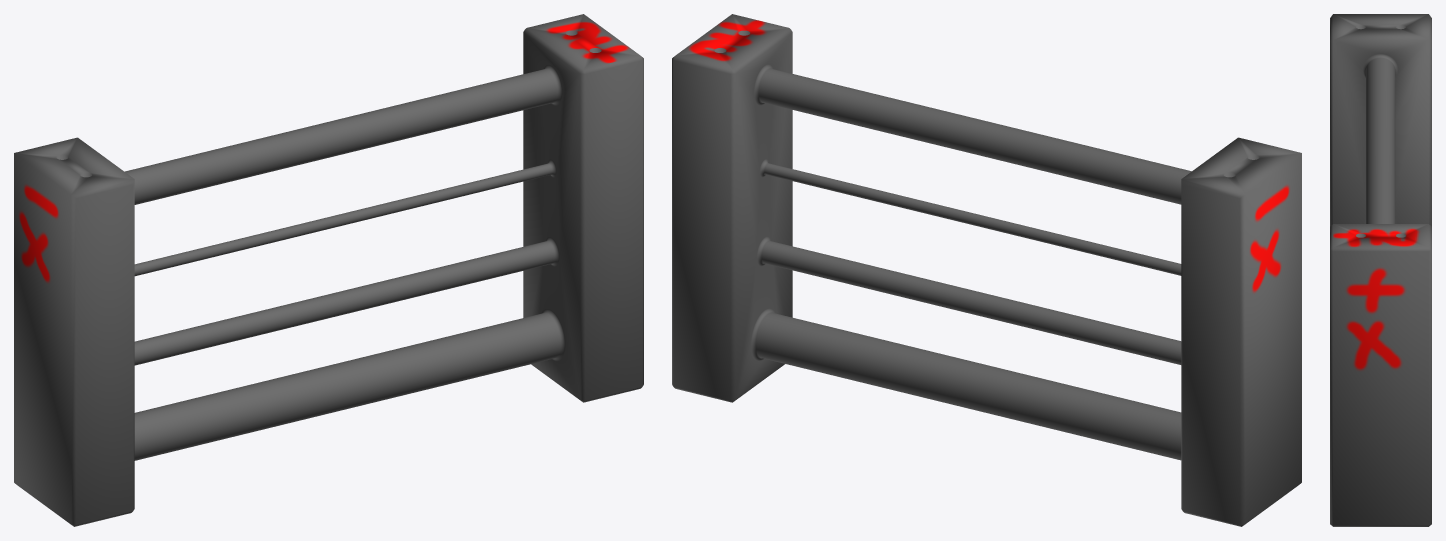
Rendered from Dummy4.fbx.
3 renders of one model, left to right at view 1: azimuth 30°, elevation 25°; view 2: azimuth 150°, elevation 25°; view 3: azimuth 270°, elevation 25°, orthographic. The views are drawn at different scales.
Visible parts, largest first — view 1: obj_000009; view 2: obj_000009; view 3: obj_000009.
Part boxes in pixels (x1,y1,x2,y2): obj_000009: (14,14,643,526); obj_000009: (672,14,1301,526); obj_000009: (1330,14,1431,526).
Bounding box in the file's own units: 18000 × 10000 × 3300.
